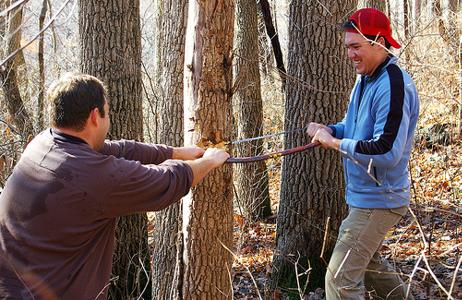person: (1, 75, 231, 300)
